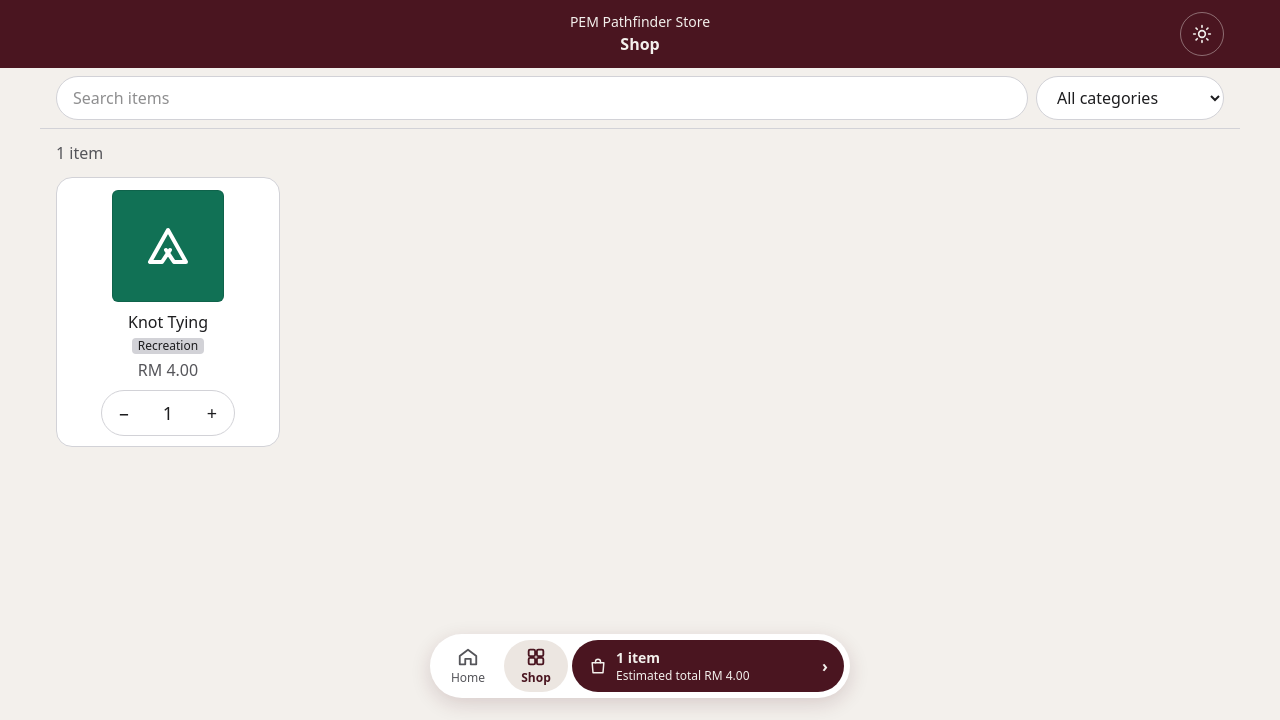
Test: App with honors loaded at the first draw › shows the Unavailable line and banner when the cart is opened from the catalogue
The width and height of the screenshot is (1280, 720).
What coordinates should you click on to do the following:
click the link with aria-label "Cart, "
I would click on:
 (708, 666)
Its box is top-left (572, 640), bottom-right (844, 692).
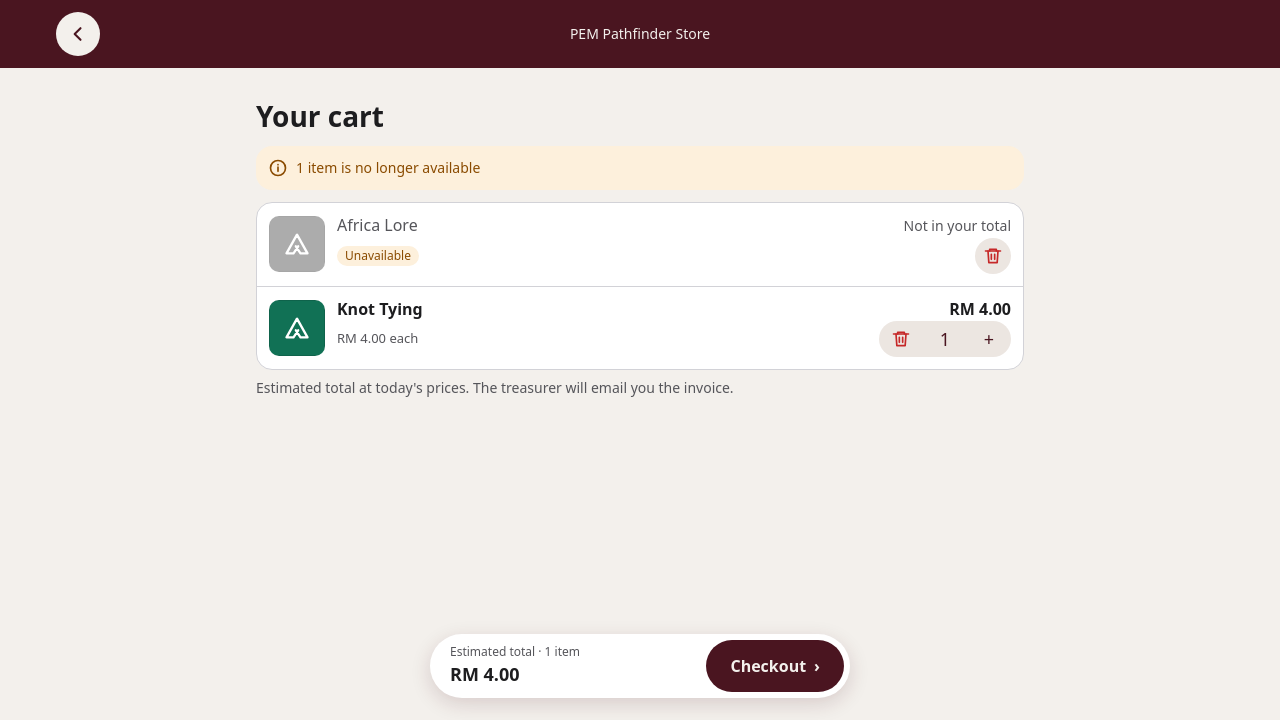
Now the text "1 item is no longer available" is shown, box top-left (256, 146), bottom-right (1024, 190)
Now the text "Africa Lore" is shown, box top-left (337, 215), bottom-right (418, 235)
